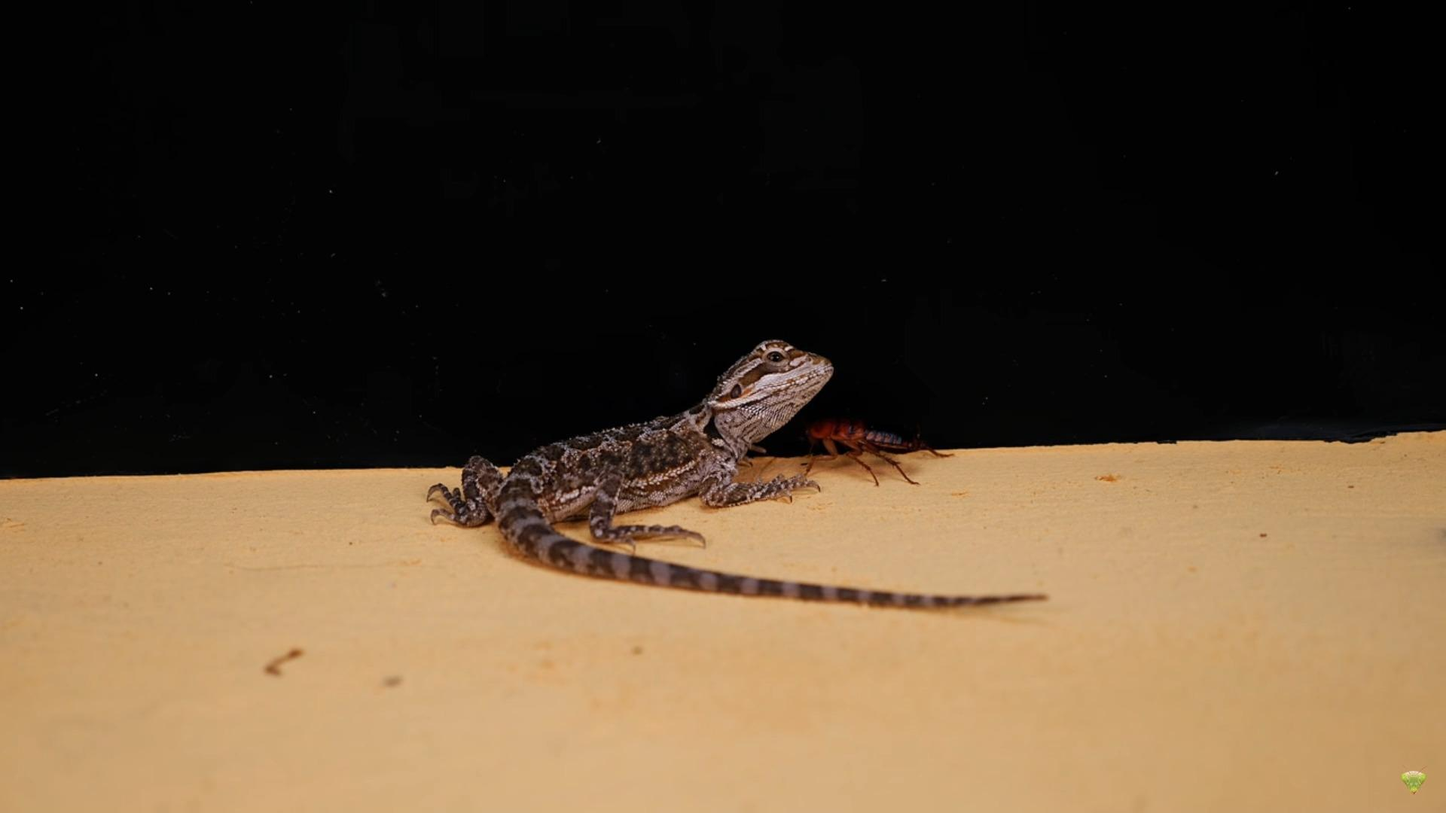cockroach: (796, 414, 952, 491)
lizard: (414, 326, 1045, 608)
